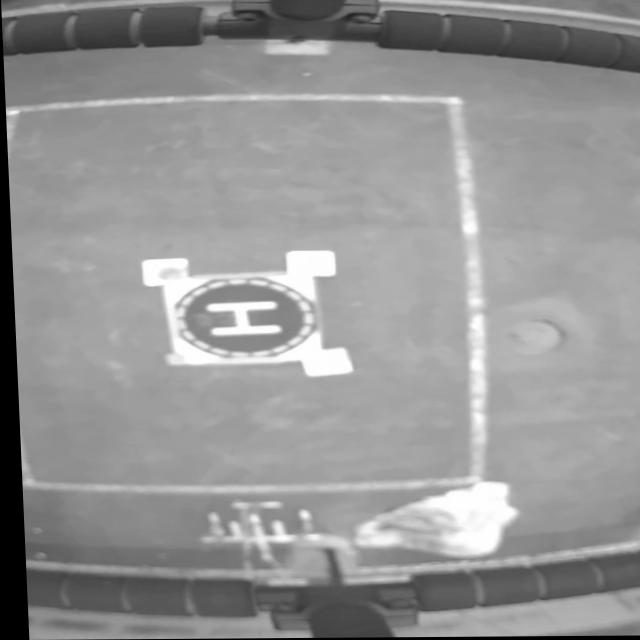Helipad: (202, 301, 277, 337)
